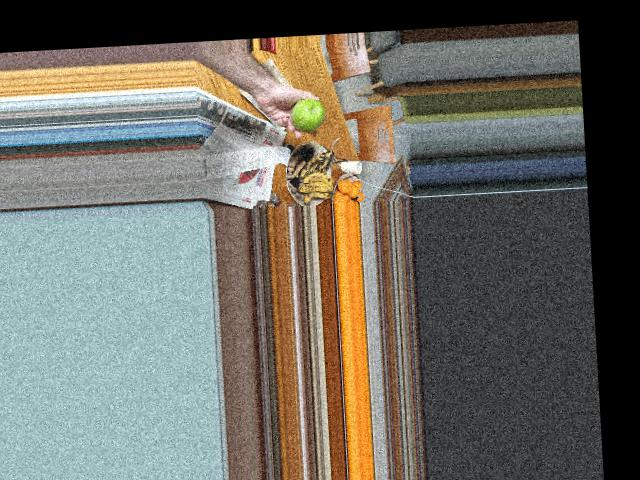apple: (288, 97, 326, 132)
